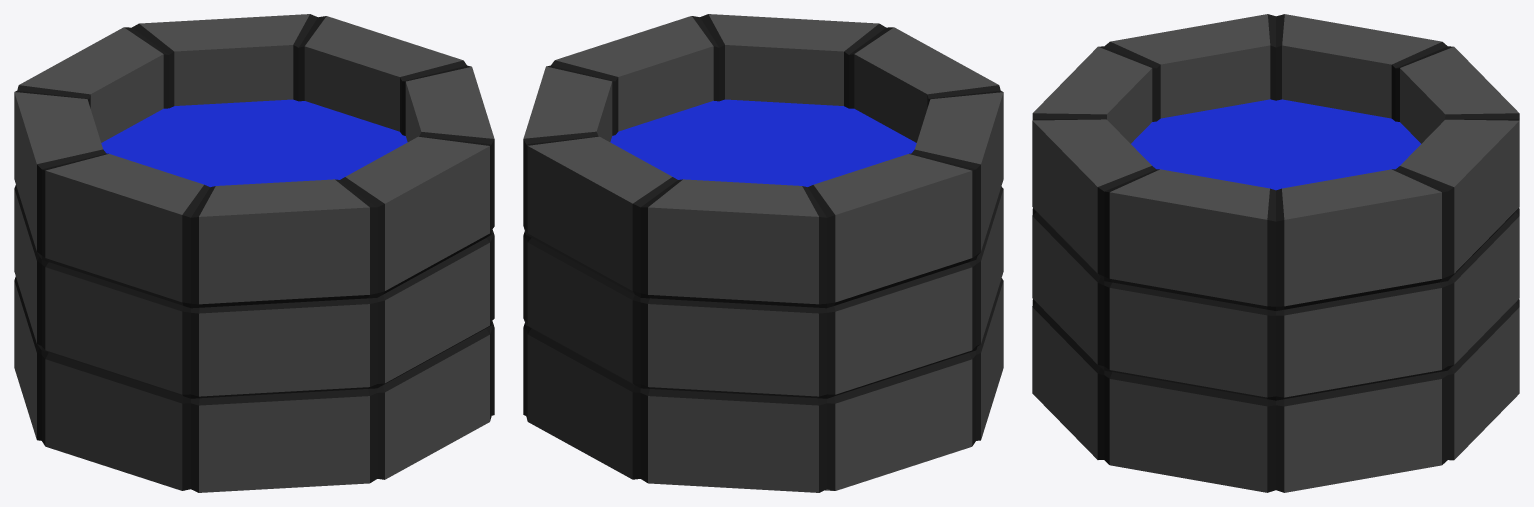
Rendered from WellUV.fbx.
3 views of the same model, side by side, from view 1: azimuth 30°, elevation 25°; view 2: azimuth 150°, elevation 25°; view 3: azimuth 270°, elevation 25° (orthographic).
Parts seen in each view (by area): view 1: Cylinder; view 2: Cylinder; view 3: Cylinder.
Part boxes in pixels (x1,y1,x2,y2): Cylinder: (14,14,494,492); Cylinder: (523,14,1003,492); Cylinder: (1032,14,1519,492).
Size of the model in its own units: 197 by 122 by 197.
